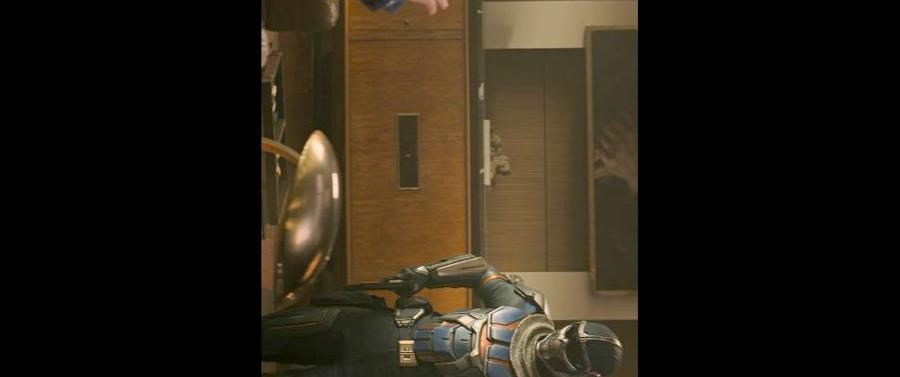gun: (344, 270, 418, 297)
